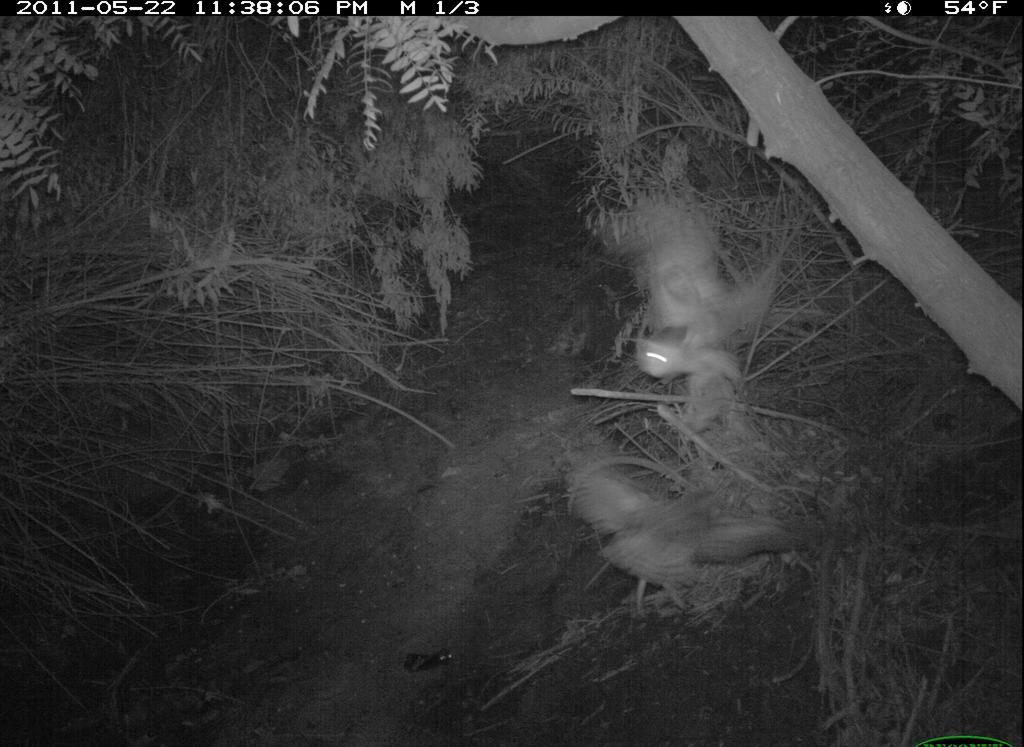bird: (565, 457, 807, 615), (634, 208, 784, 413)
